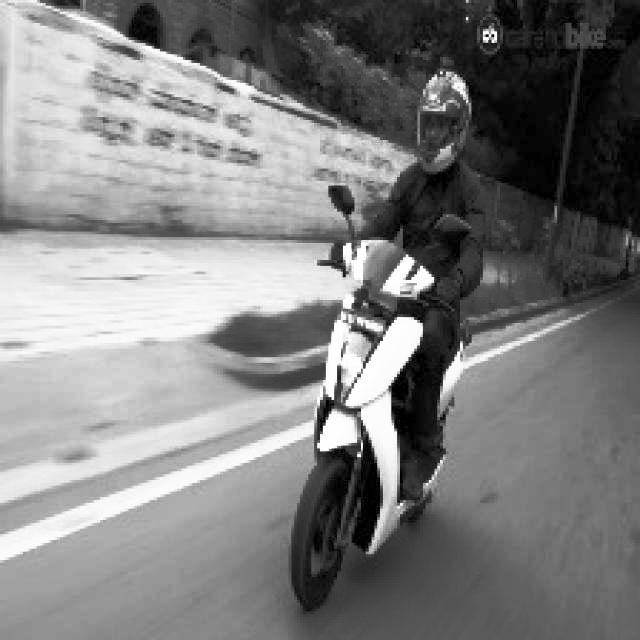Bike: (304, 214, 454, 619)
